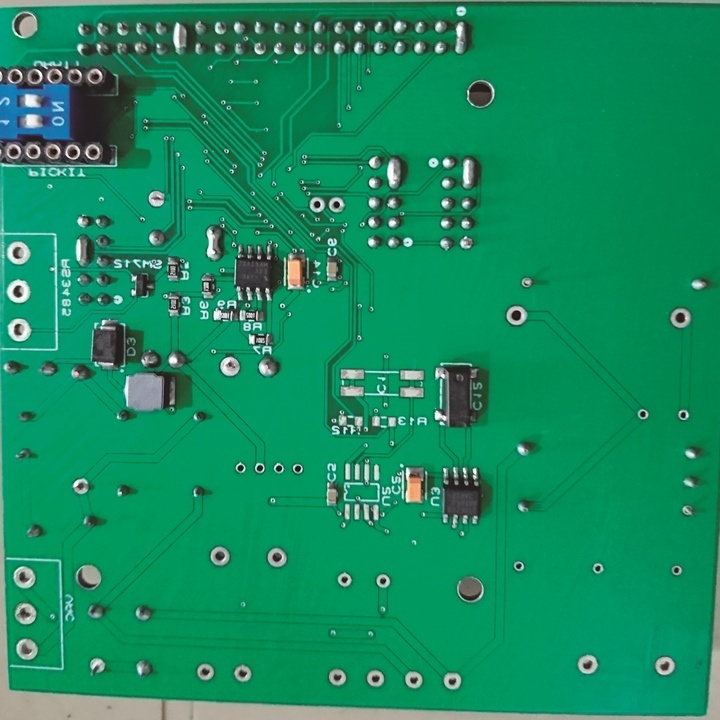F: (12, 635, 41, 666), (10, 562, 39, 592), (4, 239, 33, 269), (10, 599, 39, 628), (4, 278, 33, 306), (6, 315, 32, 346), (666, 303, 693, 331), (217, 353, 245, 380), (651, 652, 678, 678), (264, 544, 290, 571), (573, 651, 601, 676), (207, 542, 232, 570), (84, 654, 110, 680), (440, 668, 466, 693), (324, 664, 348, 691), (504, 303, 530, 327), (402, 666, 425, 692), (364, 666, 387, 691), (192, 660, 214, 686), (231, 660, 253, 685), (326, 195, 350, 217), (70, 477, 94, 498), (145, 188, 168, 209), (307, 194, 327, 217), (456, 232, 476, 254), (373, 572, 393, 593), (681, 500, 699, 523), (250, 38, 270, 58), (336, 569, 353, 592), (110, 19, 130, 38), (290, 38, 307, 60), (211, 18, 229, 38), (270, 459, 288, 478), (290, 460, 307, 480), (519, 272, 536, 291), (233, 459, 250, 478), (669, 561, 684, 580), (253, 459, 268, 478), (591, 559, 605, 578), (676, 407, 691, 423), (510, 558, 525, 574), (635, 408, 650, 423)
P: (456, 152, 482, 192), (383, 152, 407, 192), (204, 223, 226, 263), (72, 230, 93, 269), (453, 19, 472, 60), (170, 17, 189, 58)
